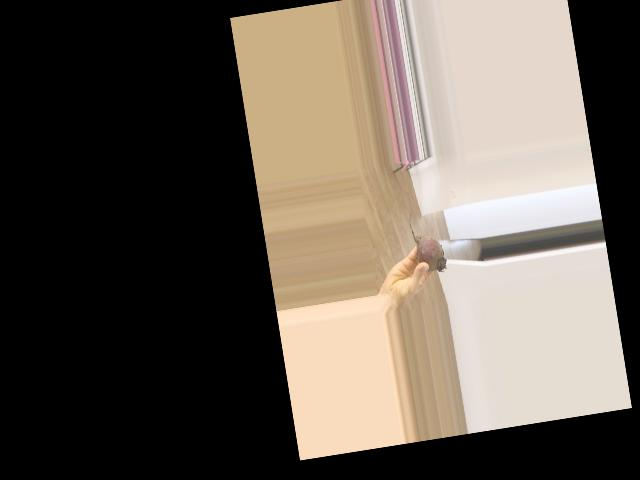beet: (407, 206, 447, 275)
